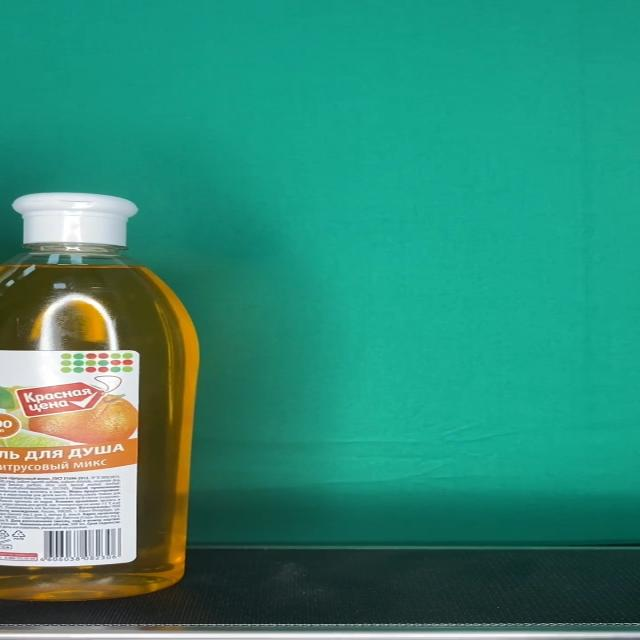Bottle: (0, 192, 199, 602)
Cap: (12, 193, 137, 245)
